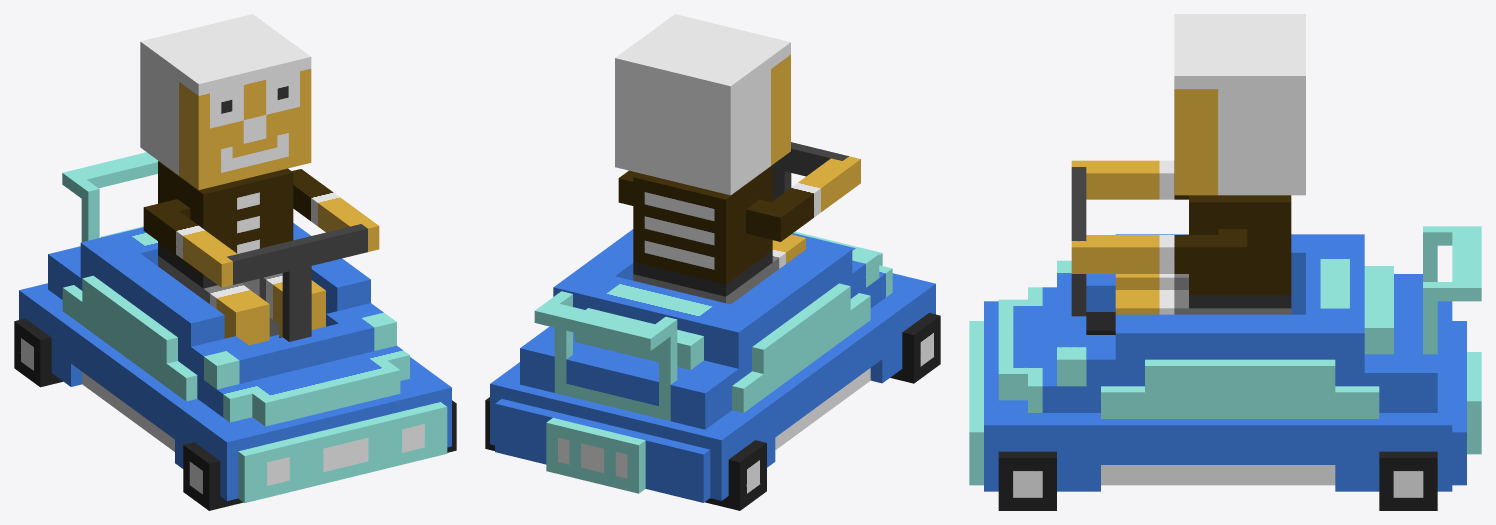
The model's file is Character_19.fbx.
The picture shows the model from 3 angles, left to right: view 1: azimuth 30°, elevation 25°; view 2: azimuth 150°, elevation 25°; view 3: azimuth 270°, elevation 25°; orthographic projection. The views are drawn at different scales.
Parts seen in each view (by area): view 1: Character_19; view 2: Character_19; view 3: Character_19.
Part boxes in pixels (x1=…): Character_19: x1=14, y1=14, x2=456, y2=510; Character_19: x1=485, y1=14, x2=940, y2=510; Character_19: x1=969, y1=14, x2=1481, y2=510.
Size of the model in its own units: 22 by 30 by 35.
1 material, 1 textured.
